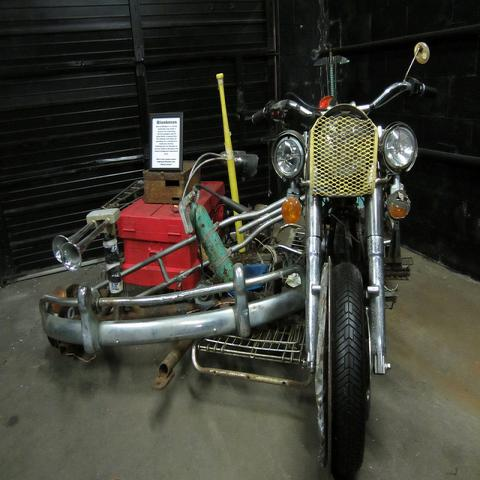motorcycle: (239, 40, 442, 468)
